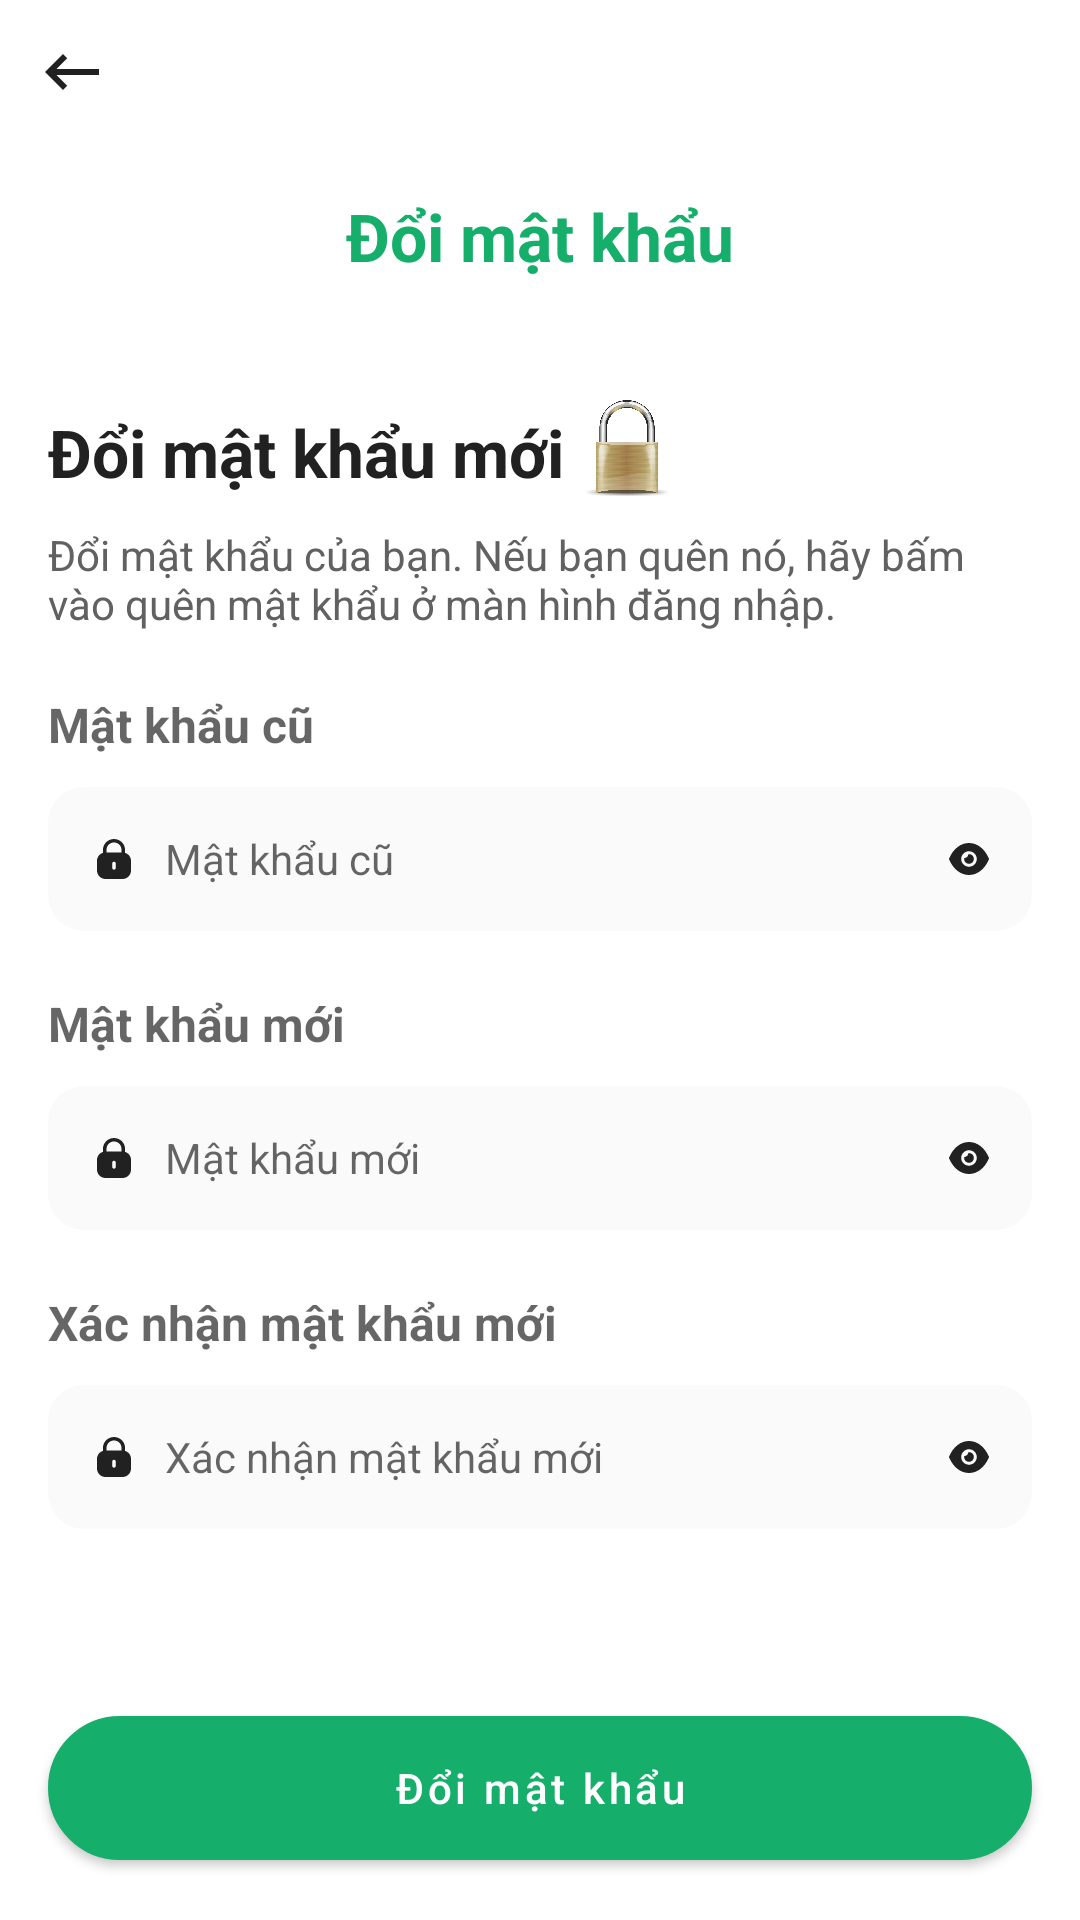

Screen size 1080px×1920px. Icon name, then its box in pixels as (x1, y1, x2, y2):
back: (45, 54, 99, 90)
lock: (590, 400, 664, 496)
password: (97, 839, 131, 879), (97, 1138, 131, 1178), (97, 1437, 131, 1477)
show: (949, 843, 989, 875), (949, 1142, 989, 1174), (949, 1441, 989, 1473)
